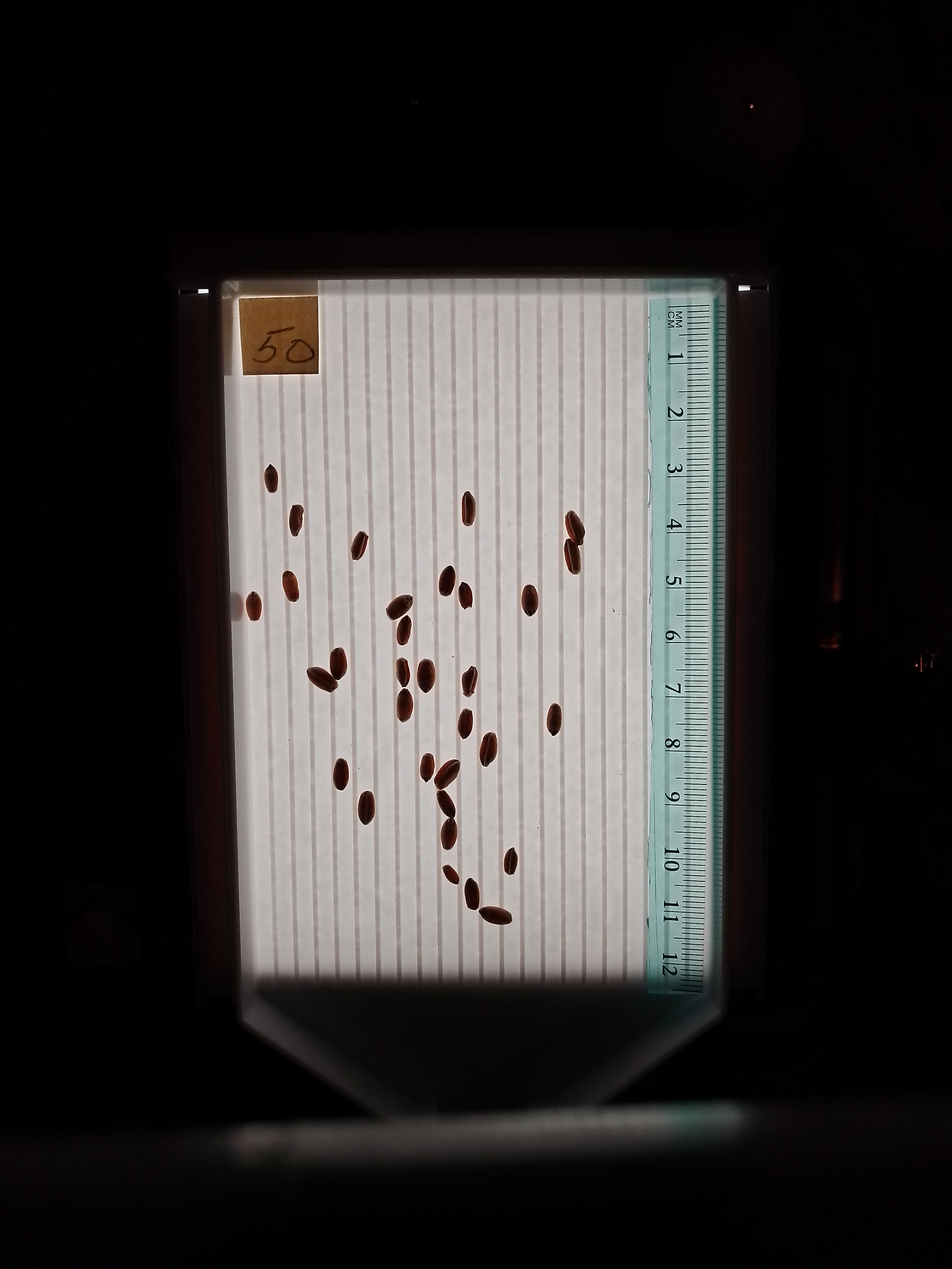seed mask: (307, 667, 337, 692), (435, 759, 460, 789), (565, 511, 585, 547), (387, 595, 414, 620), (480, 906, 512, 926), (461, 490, 478, 527), (479, 733, 498, 766), (329, 647, 348, 679), (417, 659, 435, 692), (358, 792, 375, 825), (565, 539, 581, 574), (440, 819, 458, 850), (521, 585, 539, 615), (457, 708, 474, 739), (333, 759, 349, 791), (546, 704, 562, 736), (283, 571, 299, 602), (397, 691, 413, 722), (351, 532, 368, 560), (439, 567, 455, 595), (396, 616, 411, 645), (462, 667, 477, 696), (290, 505, 304, 536), (465, 879, 479, 910), (438, 792, 455, 817), (246, 593, 261, 621), (420, 754, 435, 782), (265, 466, 279, 493), (396, 659, 410, 686), (504, 848, 518, 875), (459, 583, 473, 609), (443, 866, 459, 884)
